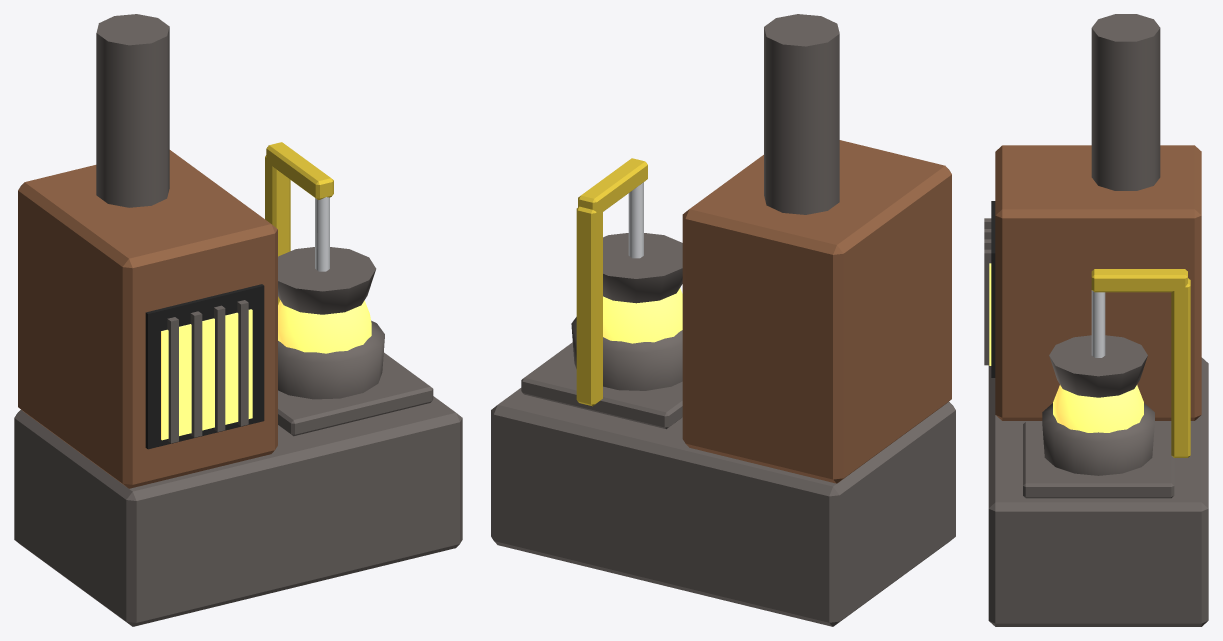
The model's file is wk_forge.glb.
3 renders of one model, left to right at view 1: azimuth 30°, elevation 25°; view 2: azimuth 150°, elevation 25°; view 3: azimuth 270°, elevation 25°, orthographic. The views are drawn at different scales.
Parts seen in each view (by area): view 1: wk_forge; view 2: wk_forge; view 3: wk_forge.
Part boxes in pixels (<box>): wk_forge: <box>14,14,462,626</box>; wk_forge: <box>491,14,955,626</box>; wk_forge: <box>984,14,1208,626</box>.
Size of the model in its own units: 2.6 by 3.9 by 1.63.
